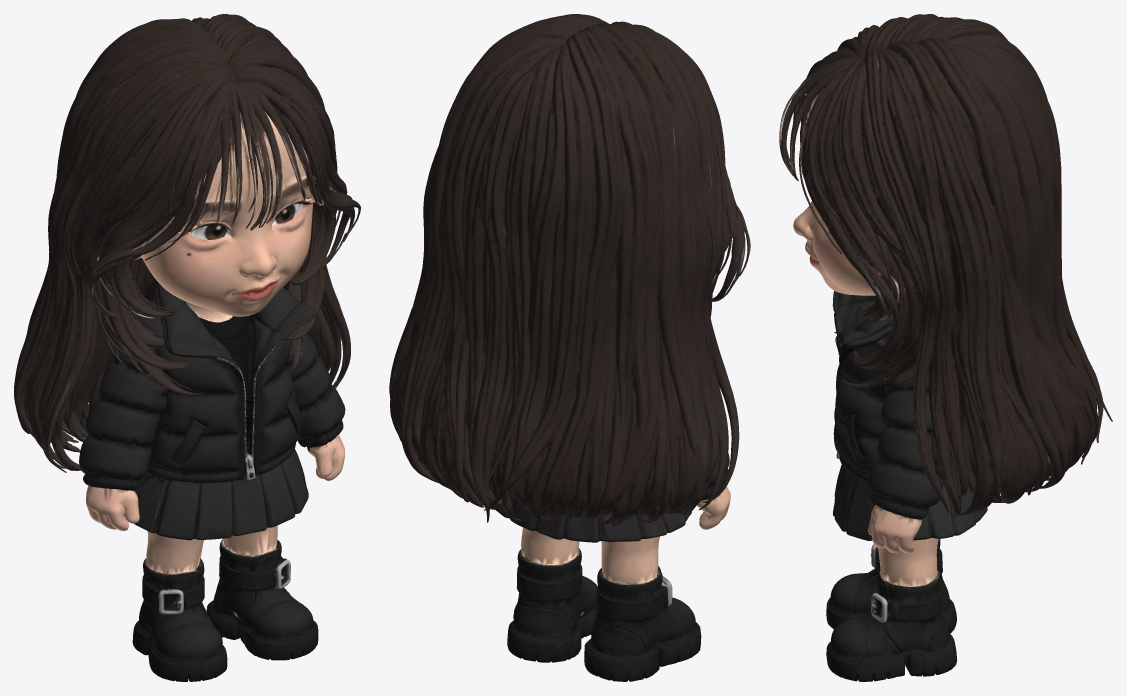
The model's file is family_me.glb.
The picture shows the model from 3 angles, left to right: view 1: azimuth 30°, elevation 25°; view 2: azimuth 150°, elevation 25°; view 3: azimuth 270°, elevation 25°; orthographic projection. The views are drawn at different scales.
Bounding box in the file's own units: 0.9944 × 1.9 × 0.9369.
Materials: 1 (1 with a texture image).
